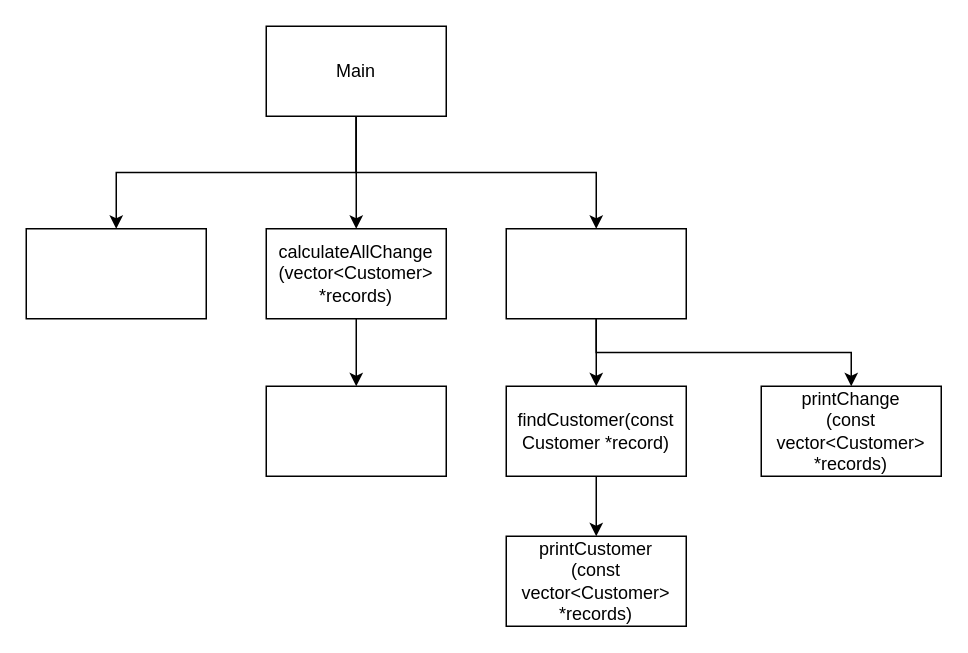
Image size: 968x653. Some labels were removed from this diagram. The shapes that lost their labels are listed below. From the top down, each one's box as (x1, y1, x2, y2) in pixels, then its label:
(25, 227, 206, 319): readChange (vector<Customer> *records)
(505, 227, 686, 319): menuPrompt (vector<Customer> *records)
(265, 385, 446, 476): calculateChange (Customer *record)
